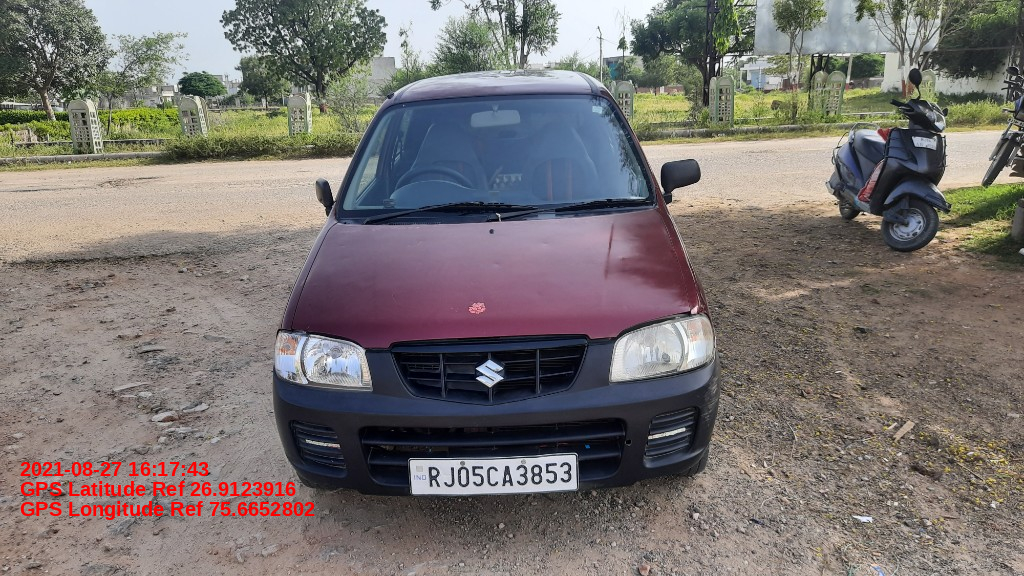Pressed: (535, 237, 556, 249), (489, 259, 506, 271)
Scratched: (701, 370, 720, 428), (464, 300, 495, 318)
